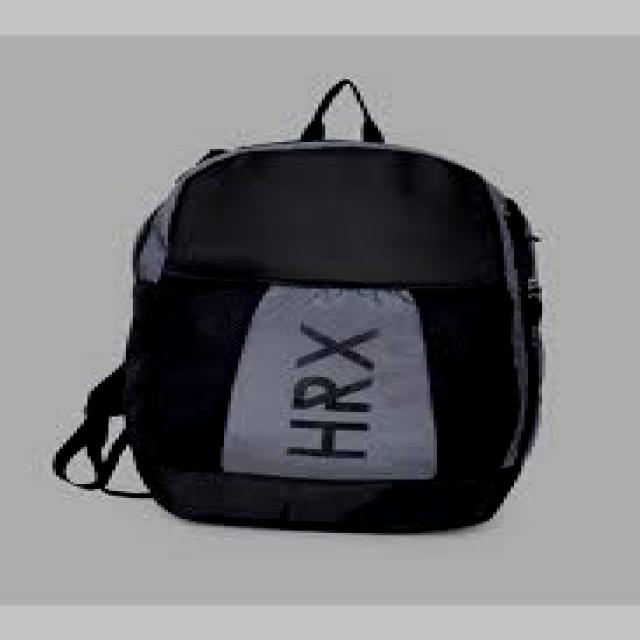backpack: (54, 78, 547, 534)
